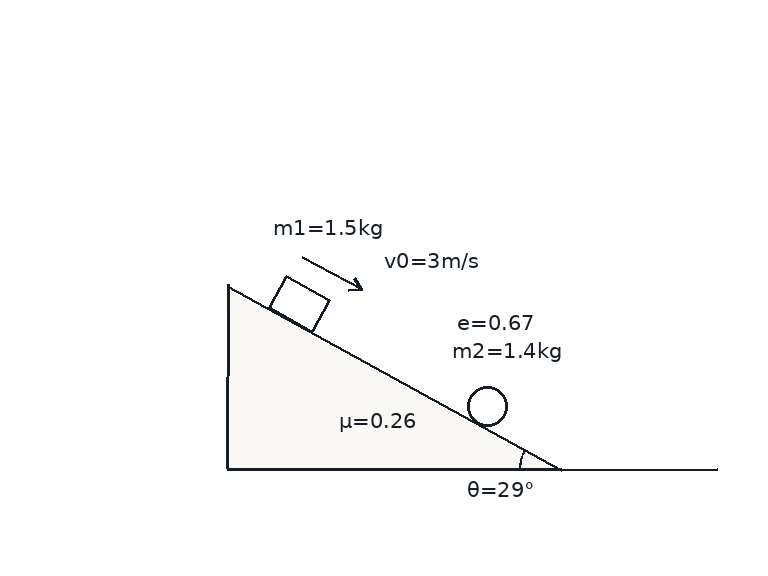ball: (465, 384, 509, 428)
block: (267, 274, 331, 333)
ramp: (226, 283, 562, 471)
